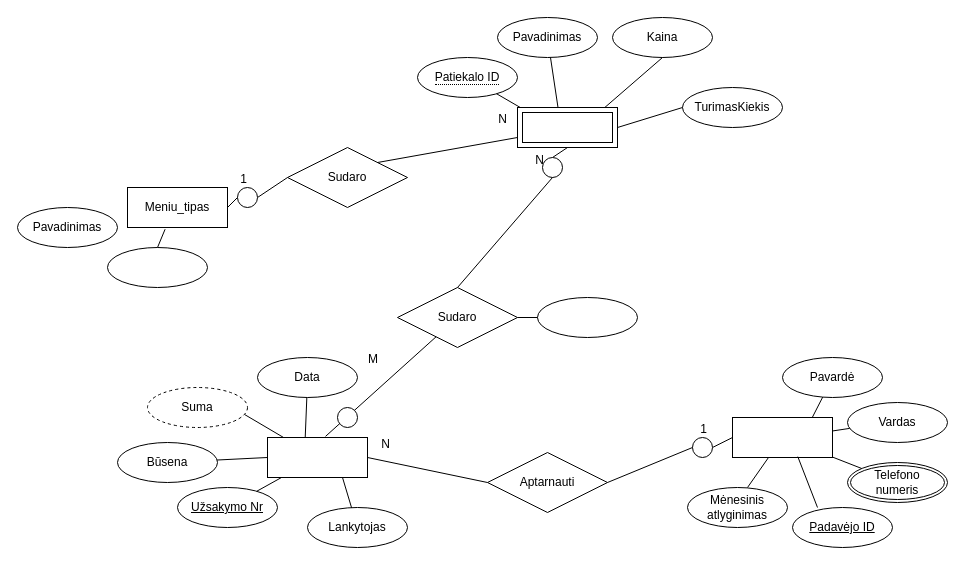
Image size: 965x565. Some labels were removed from this diagram. The centre of each missing label's shape, as x and y in pixels:
"Kiekis" belongs at [587,317].
"Meniu ID" belongs at [157,267].
"Padavėjas" belongs at [782,437].
"Patiekalas" belongs at [567,127].
"Užsakymas" belongs at [317,457].
